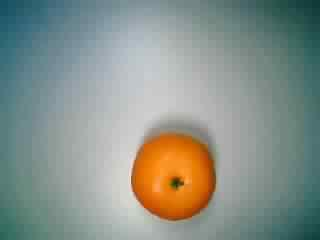orange: (124, 129, 219, 231)
